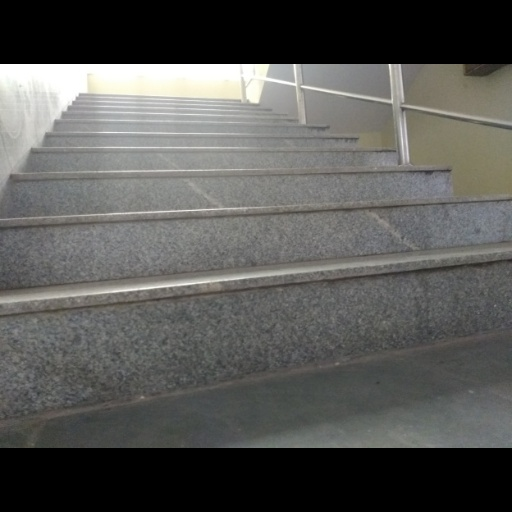Stairs: (0, 94, 512, 419)
